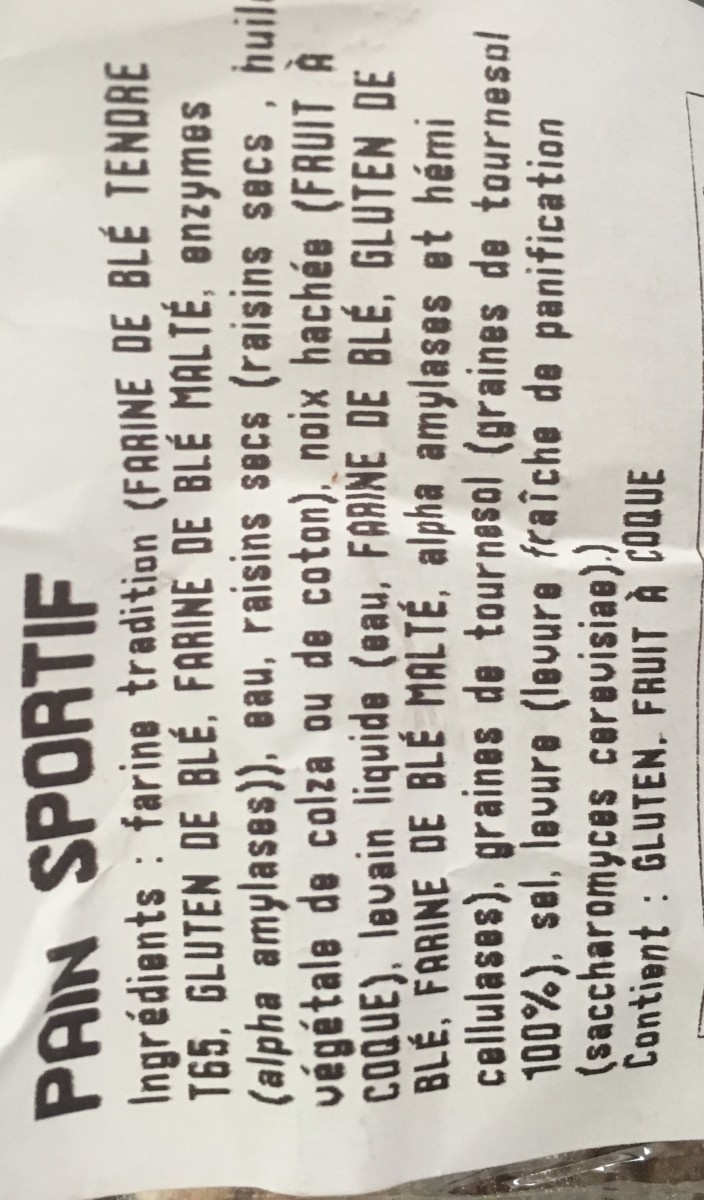ingredients: (101, 7, 689, 1136)
